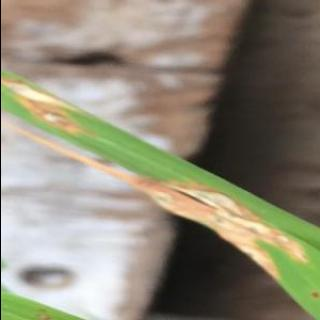Hawar-Daun: (210, 212, 302, 268), (156, 180, 236, 222), (8, 78, 54, 106), (106, 168, 162, 190)
